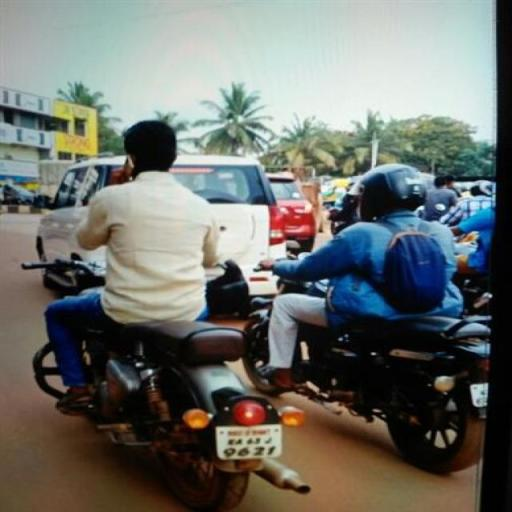using mobile: (108, 152, 138, 184)
